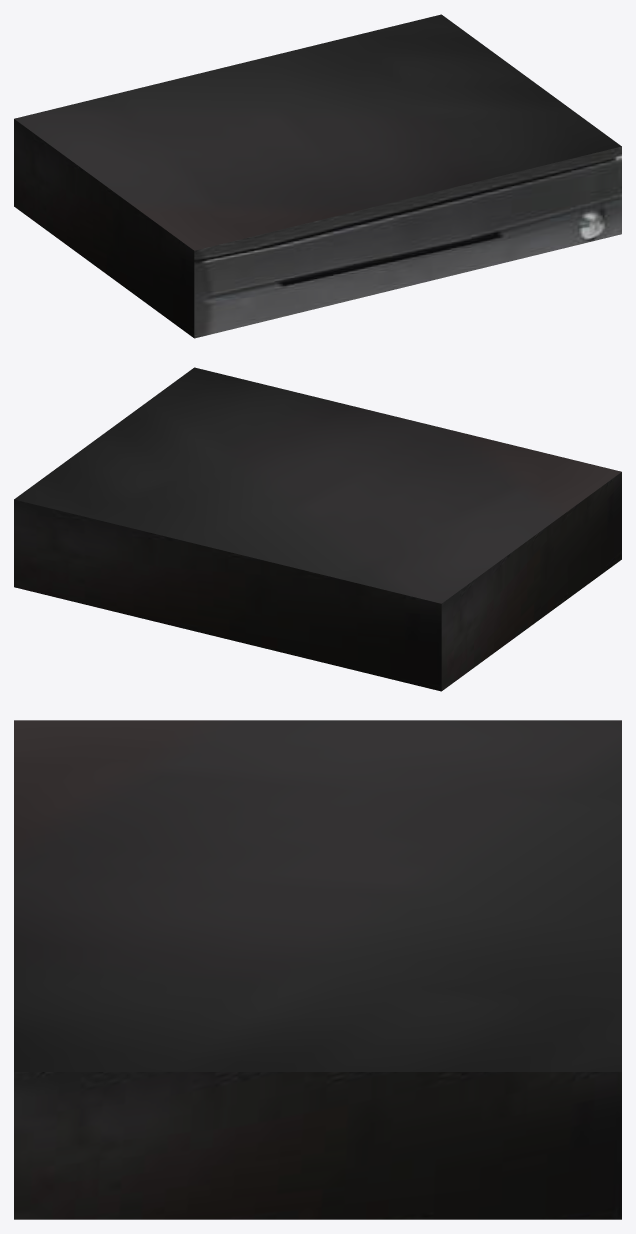
File: register.glb
3 renders of one model, top to bottom at view 1: azimuth 30°, elevation 25°; view 2: azimuth 150°, elevation 25°; view 3: azimuth 270°, elevation 25°, orthographic. The views are drawn at different scales.
Parts seen in each view (by area): view 1: register; view 2: register; view 3: register.
Part boxes in pixels (x1,y1,x2,y2): register: (14, 14, 621, 338); register: (14, 367, 621, 691); register: (14, 720, 621, 1219).
Bounding box in the file's own units: 6.37 × 1.25 × 4.66.
1 material, 1 textured.
